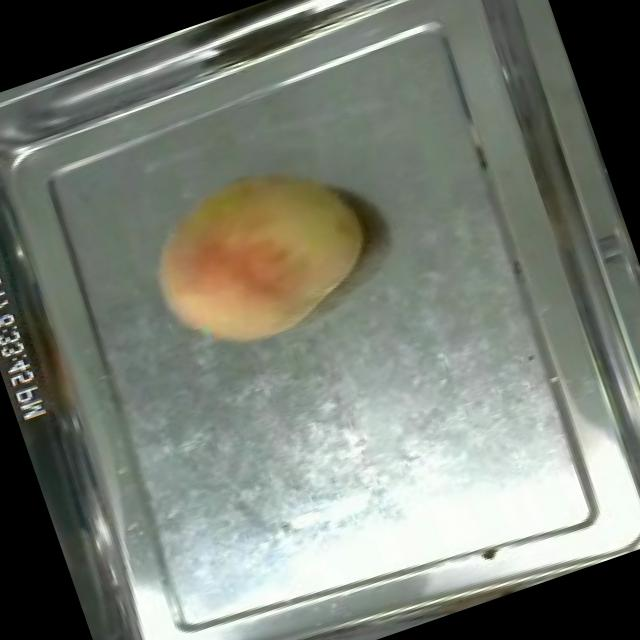Fruit: (127, 136, 396, 375)
